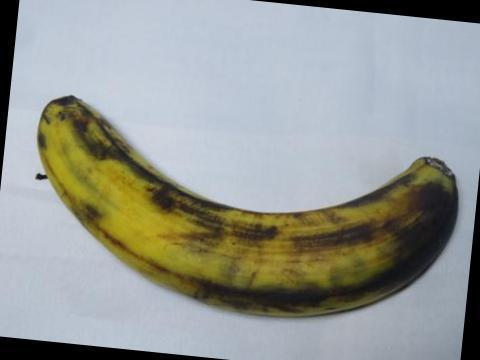overripe: (15, 87, 467, 339)
